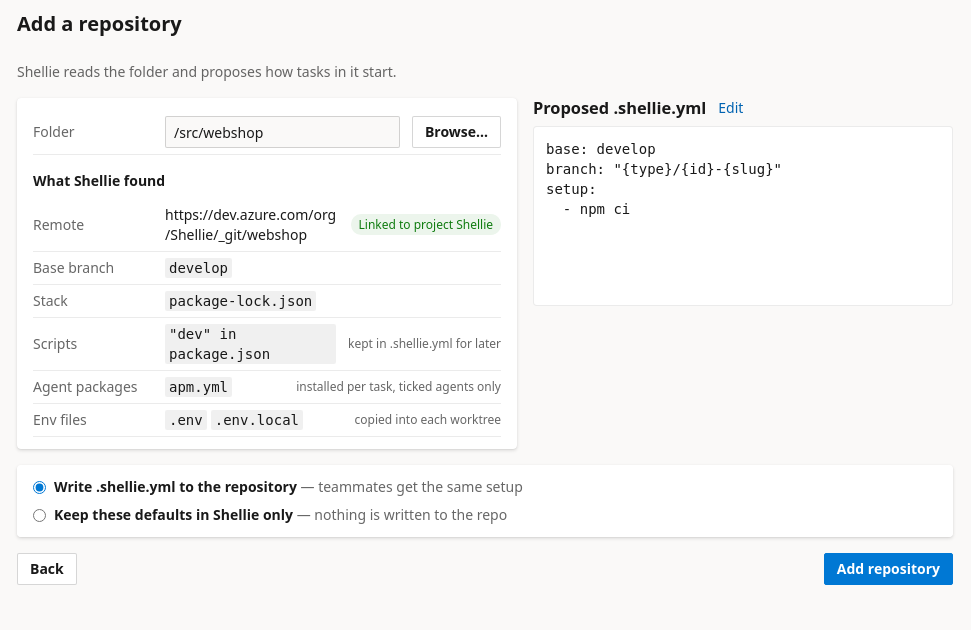
Test: AddRepoScreen › closes the editor when keeping the defaults in Shellie only
Expected: the text "Linked to project Shellie" is shown, [350,214,501,235]
Click the button "Edit": click(731, 108) [718,98,743,118]
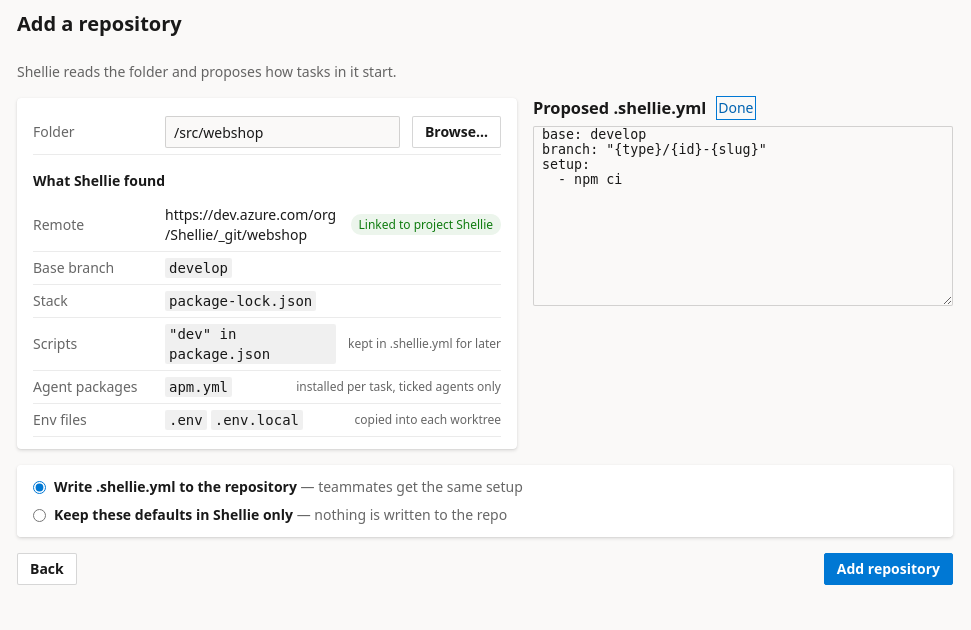
Click the radio button labelled "Keep these": click(40, 515) [33,508,46,522]
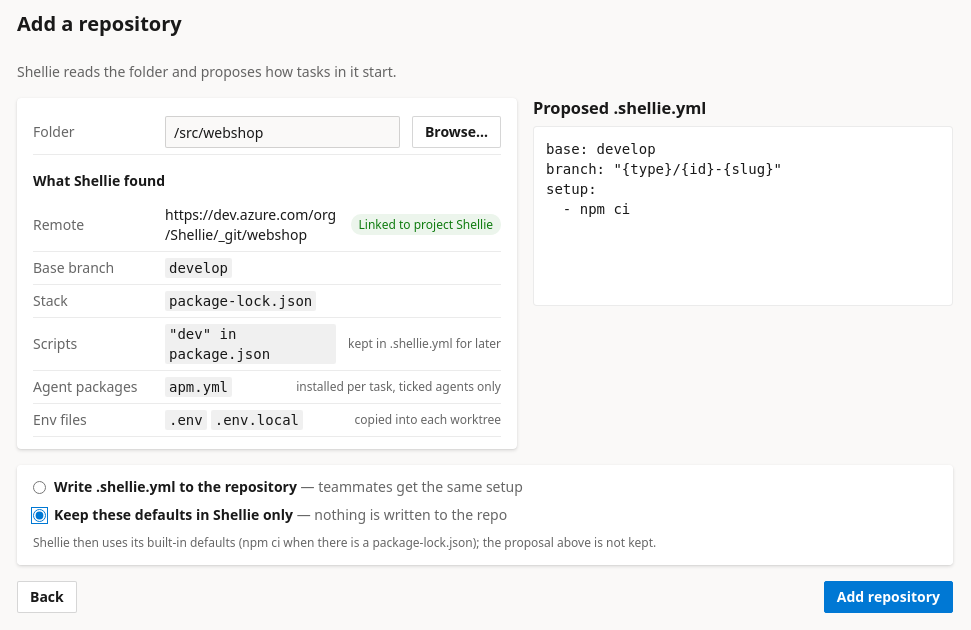
Expected: the text "Shellie then uses its built-in defaults (npm ci when there is a package-lock.json); the proposal above is not kept." is shown, [33,534,656,551]
